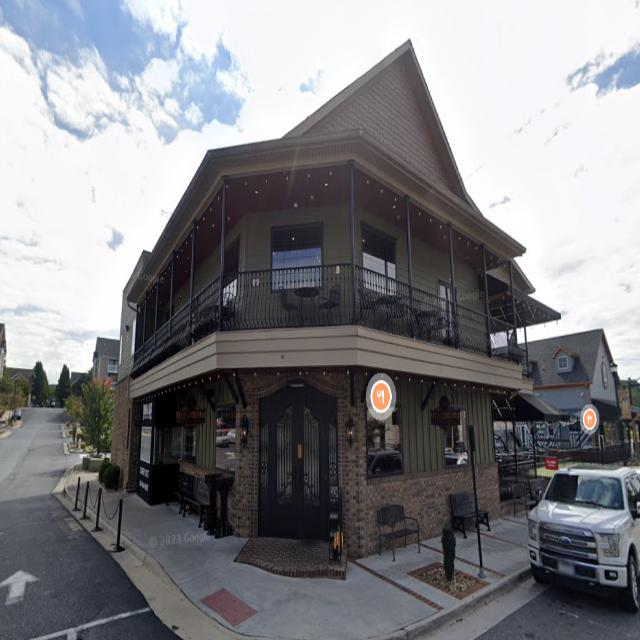House: (110, 39, 572, 580), (487, 328, 634, 458), (92, 336, 120, 398), (3, 368, 35, 403), (1, 322, 7, 386)
